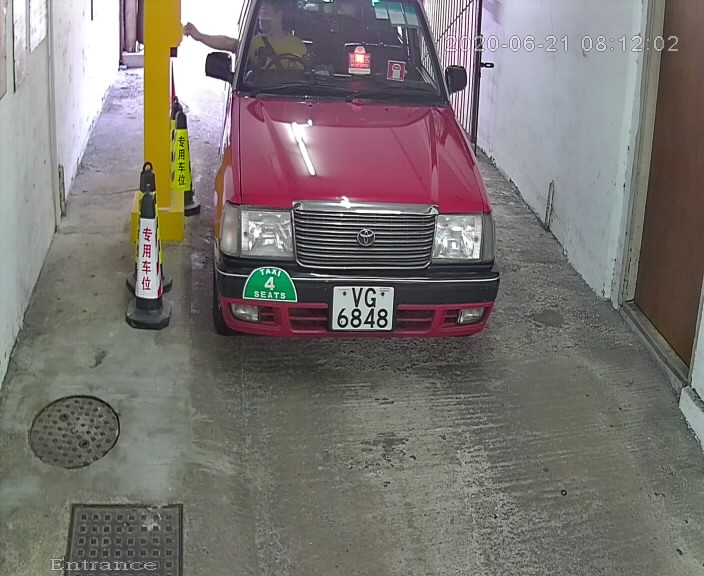taxi: (188, 1, 513, 380)
taxi_mark: (238, 254, 309, 317)
